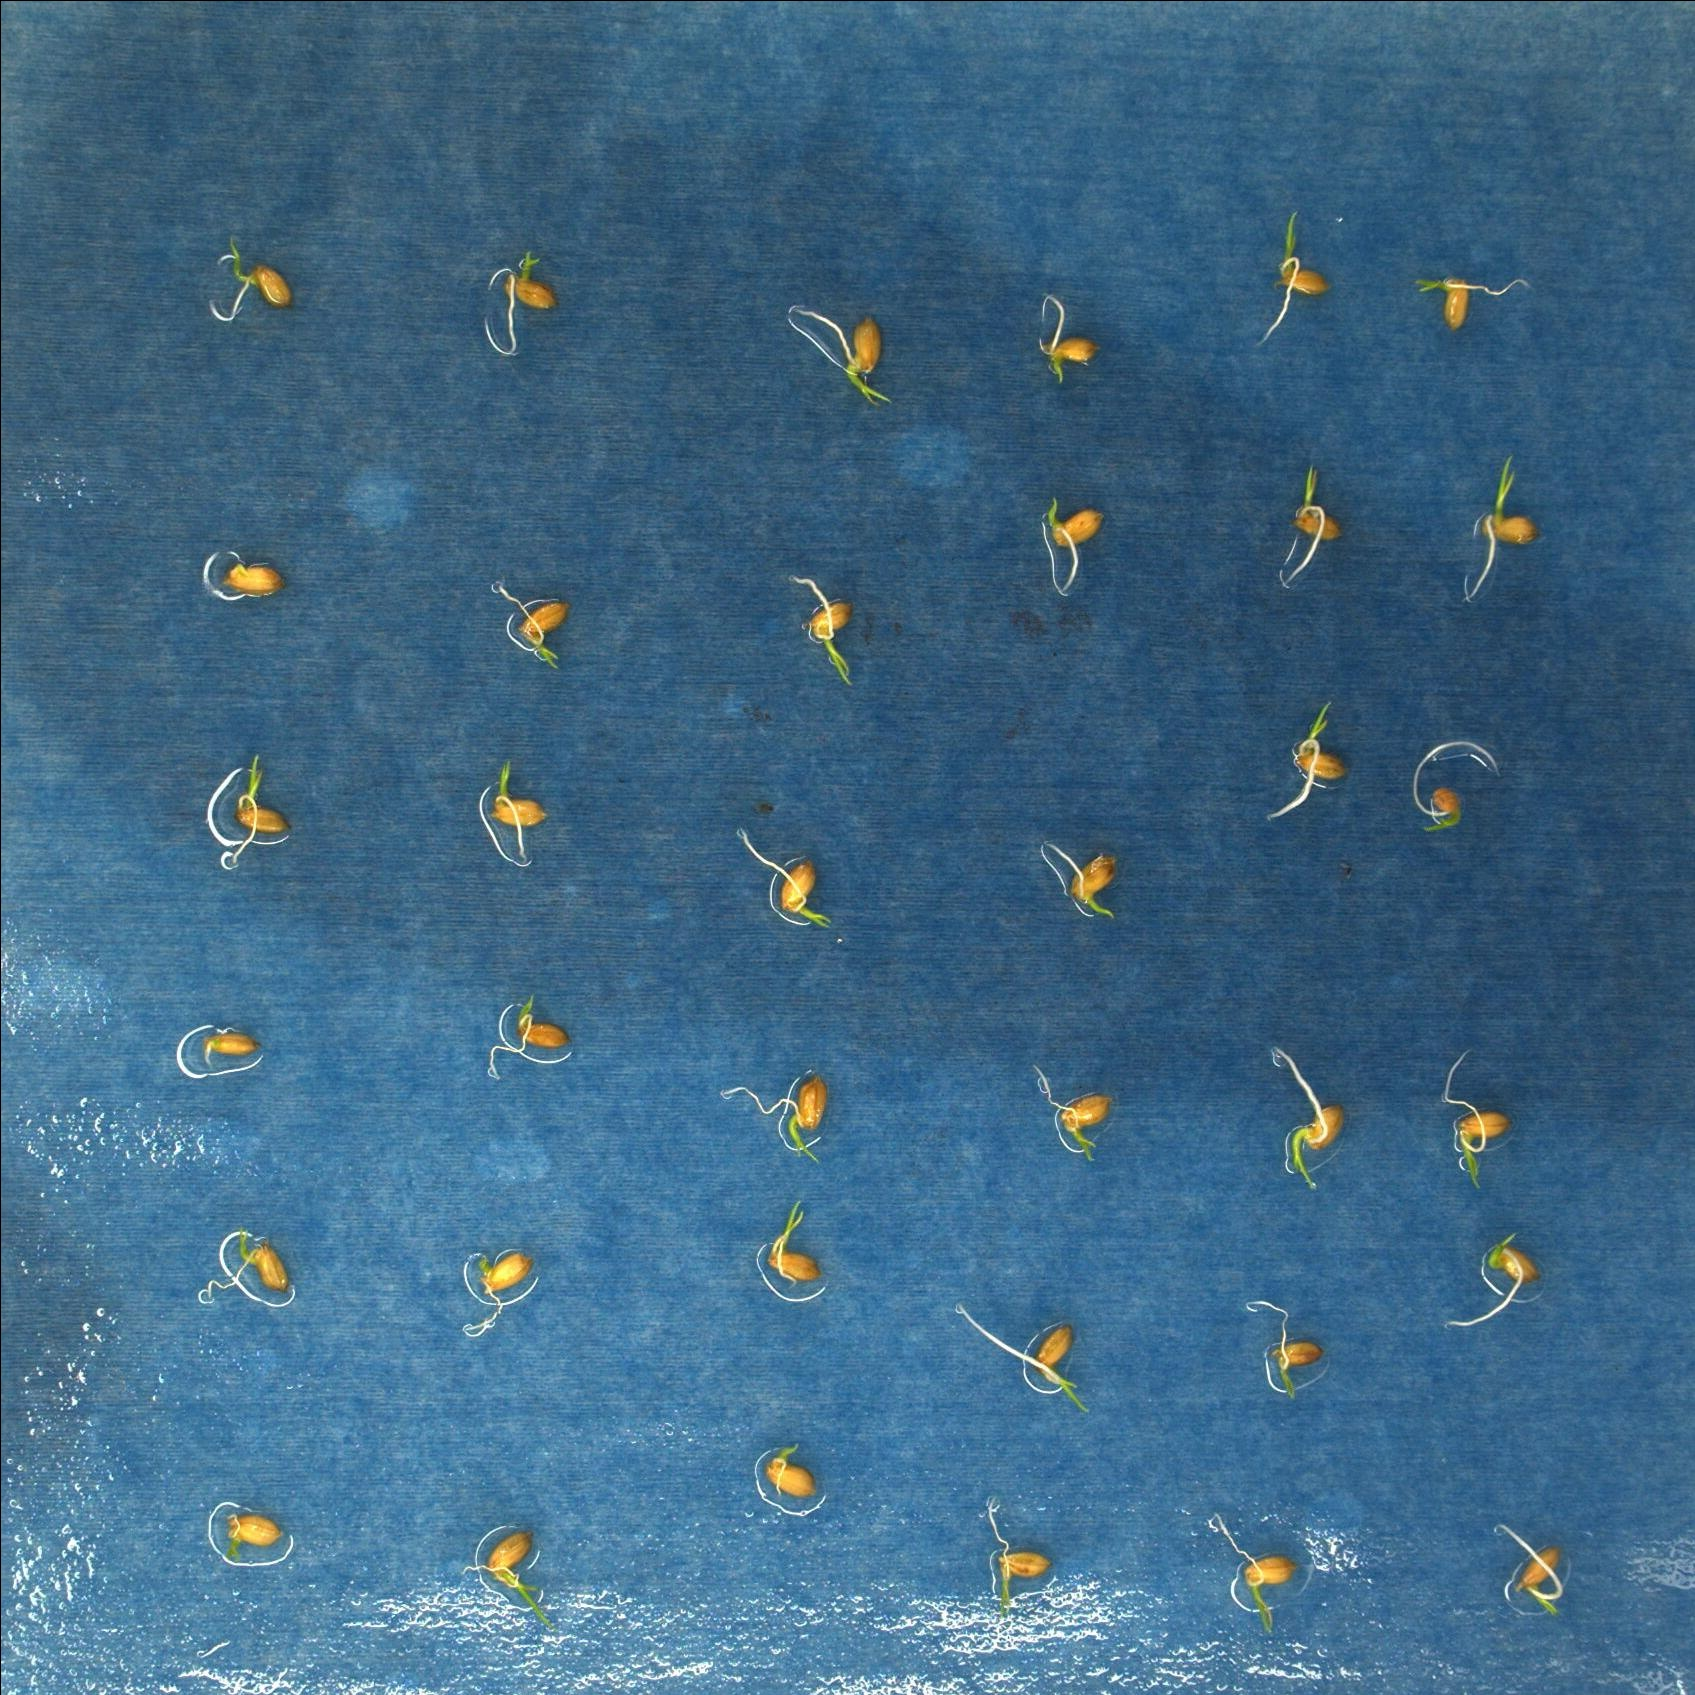not sprout: (751, 1440, 818, 1506), (194, 1017, 272, 1065), (1419, 775, 1473, 841), (211, 557, 286, 601), (217, 1507, 286, 1554)
sprout: (951, 1298, 1097, 1420), (467, 1506, 577, 1636), (1453, 456, 1548, 596), (731, 816, 846, 931), (1437, 1043, 1520, 1200), (1232, 1291, 1347, 1402), (1267, 1043, 1349, 1197), (1206, 1510, 1301, 1641), (719, 1074, 843, 1172), (1263, 691, 1352, 827), (792, 300, 900, 408), (477, 244, 584, 352), (1433, 1229, 1548, 1330), (455, 1239, 567, 1340), (782, 565, 871, 688), (1026, 273, 1114, 393), (972, 1501, 1063, 1616), (1260, 203, 1335, 343), (1029, 1060, 1118, 1177), (750, 1189, 834, 1312), (224, 747, 303, 872), (186, 1225, 296, 1315), (469, 1000, 593, 1077), (1031, 490, 1114, 601), (1277, 463, 1349, 588), (1487, 1516, 1572, 1620), (484, 574, 577, 669), (480, 754, 557, 863), (1040, 834, 1132, 920), (1409, 267, 1527, 334), (213, 241, 289, 320)
